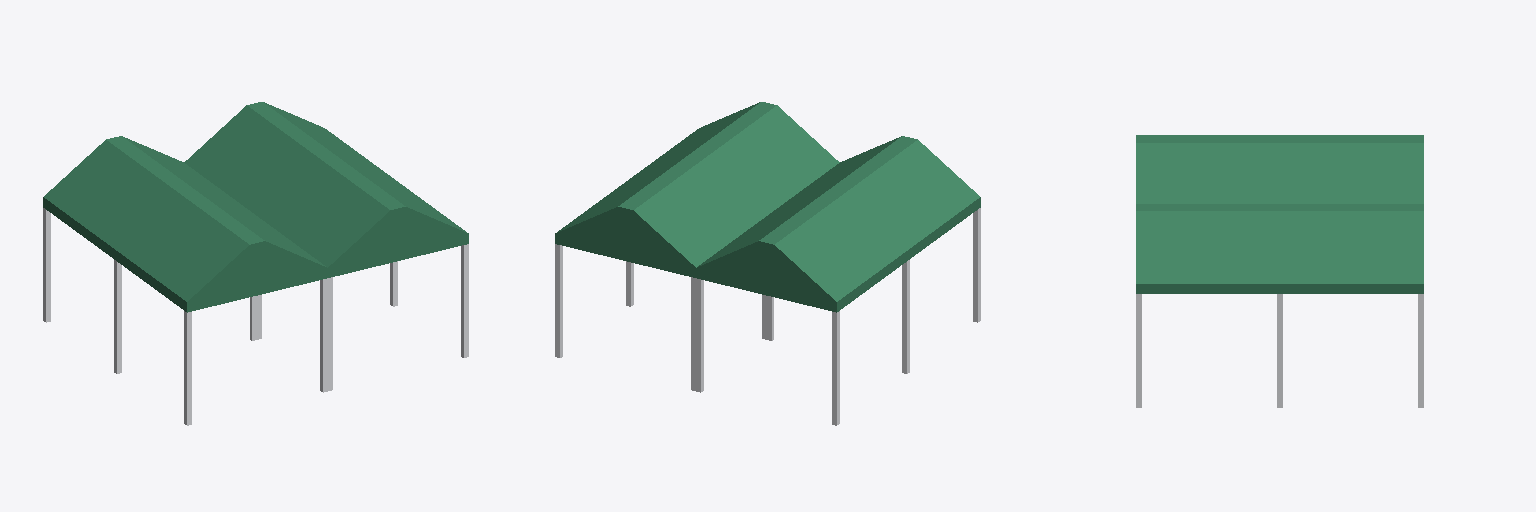
File: tentRoofDouble.obj
3 renders of one model, left to right at view 1: azimuth 30°, elevation 25°; view 2: azimuth 150°, elevation 25°; view 3: azimuth 270°, elevation 25°, orthographic.
Visible parts, largest first — view 1: tentRoofDouble; view 2: tentRoofDouble; view 3: tentRoofDouble.
Part boxes in pixels (bbox=[...]): tentRoofDouble: bbox=[43, 102, 468, 425]; tentRoofDouble: bbox=[555, 102, 980, 425]; tentRoofDouble: bbox=[1136, 135, 1423, 407].
Size of the model in its own units: 1.12 by 0.63 by 0.99.